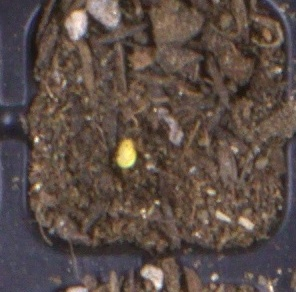chilli seed: (114, 137, 137, 169)
